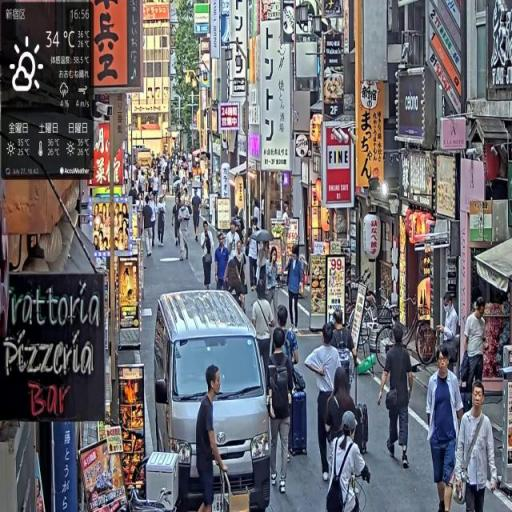person: (304, 322, 343, 490), (427, 346, 466, 511), (452, 380, 498, 512), (378, 322, 416, 470), (195, 362, 232, 512), (324, 410, 371, 512), (269, 325, 296, 495), (462, 296, 487, 413), (287, 245, 305, 331), (178, 196, 193, 264), (201, 221, 215, 292), (216, 232, 231, 292), (192, 188, 203, 243), (157, 194, 167, 247)
